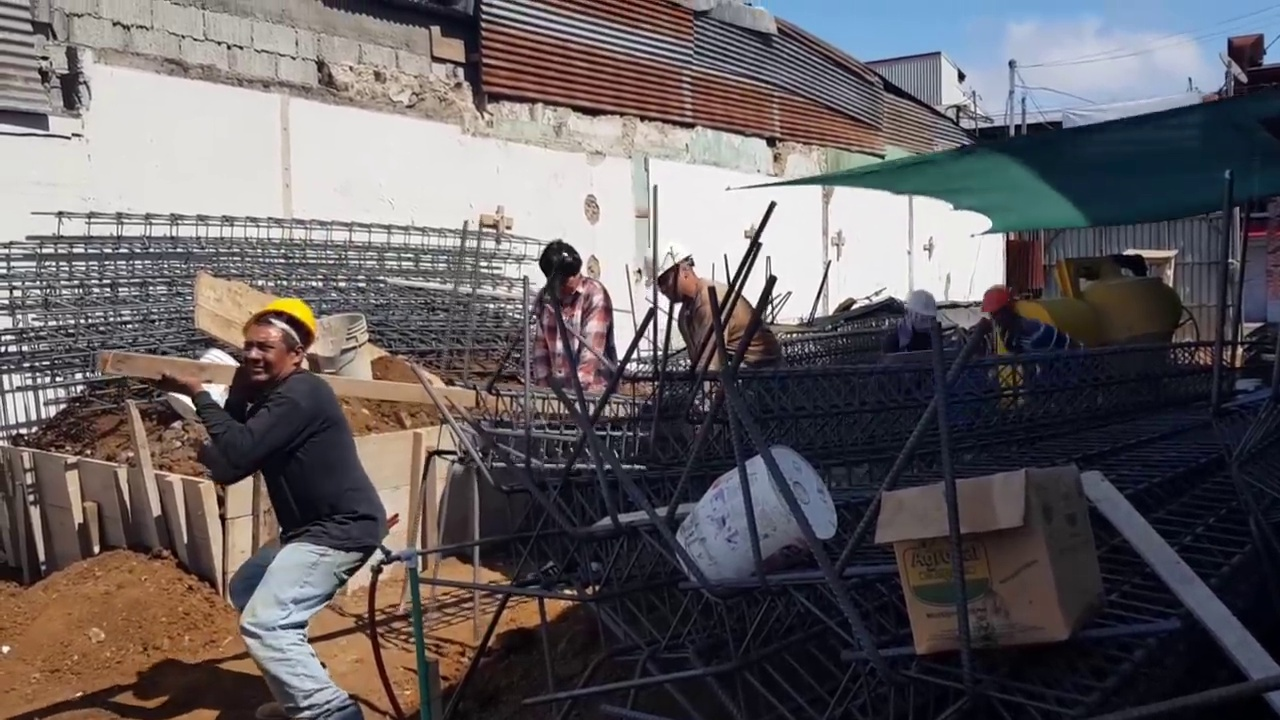helmet: (244, 296, 316, 343), (640, 247, 693, 291), (897, 293, 943, 333), (900, 293, 939, 318), (981, 287, 1011, 312)
helmet-off: (535, 244, 581, 306)
helmet-on: (234, 296, 314, 390), (640, 249, 696, 304), (980, 287, 1015, 330)
person: (157, 292, 403, 720), (639, 241, 772, 372), (527, 236, 615, 392), (980, 285, 1080, 358), (881, 290, 952, 360)
